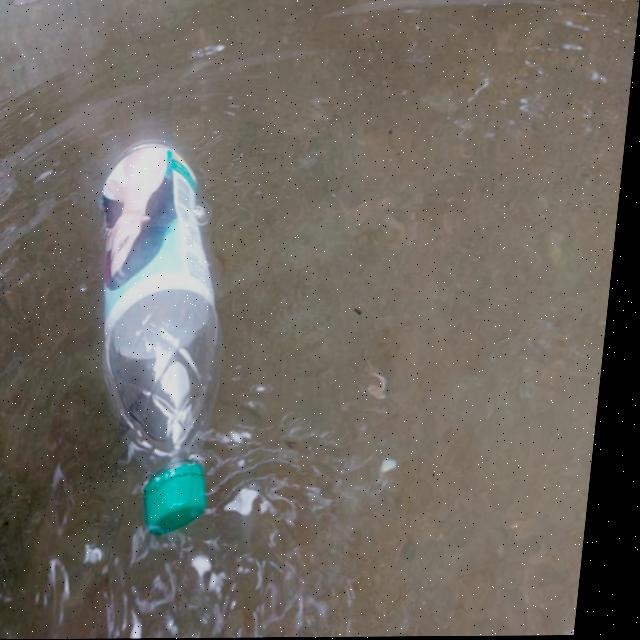waterbottle: (72, 129, 247, 557)
